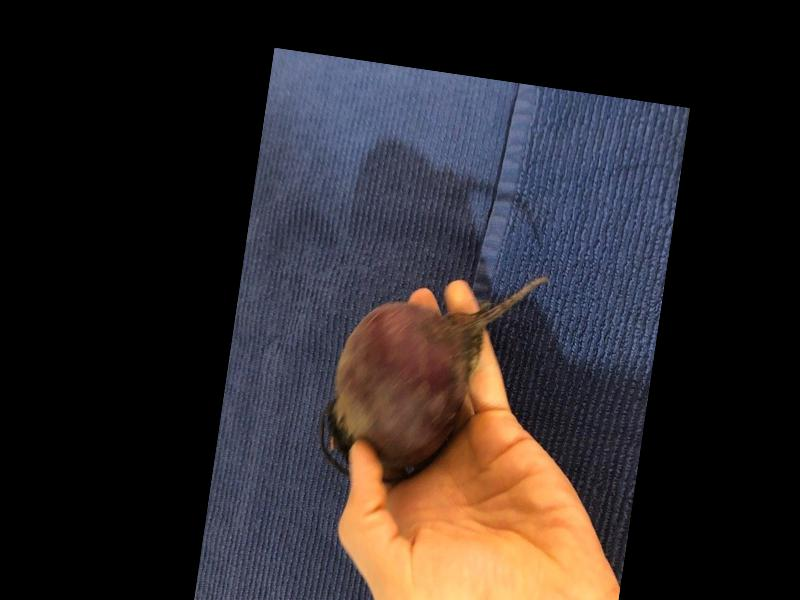Beet: (313, 246, 550, 500)
